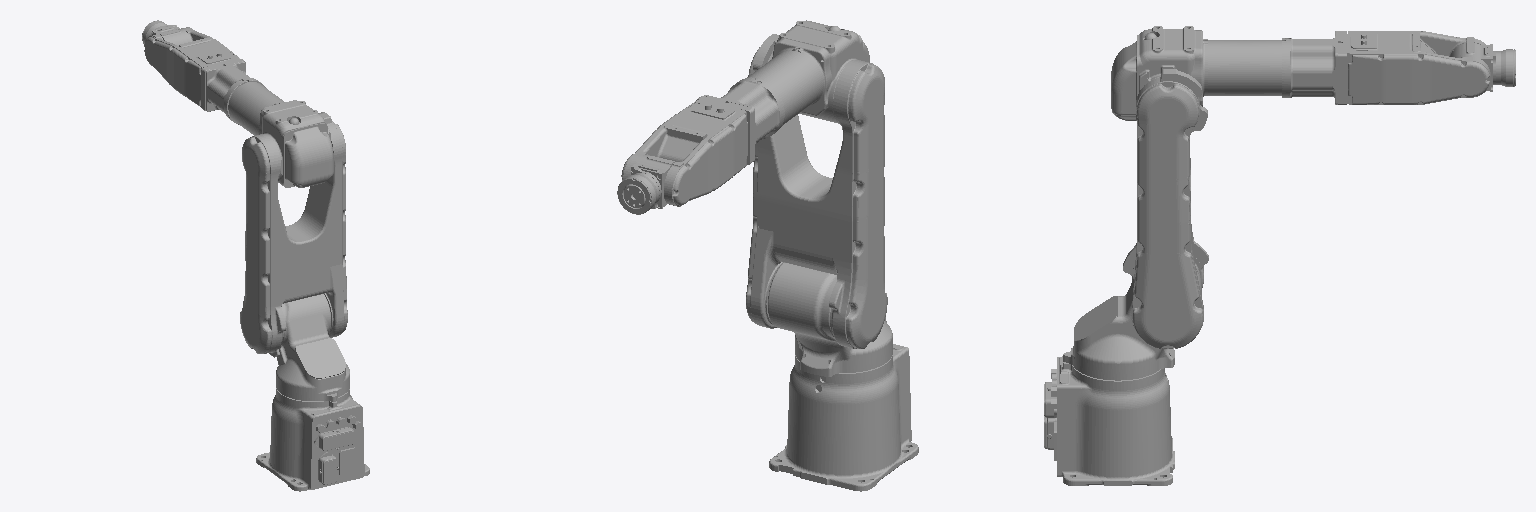
robot.urdf — mh5lsii_01:
<?xml version="1.0" ?>
<!-- =================================================================================== -->
<!-- |    This document was autogenerated by xacro from mh5lsii_01.xacro               | -->
<!-- |    EDITING THIS FILE BY HAND IS NOT RECOMMENDED                                 | -->
<!-- =================================================================================== -->
<robot name="mh5lsii_01">
  <material name="silver">
    <color rgba="0.700 0.700 0.700 1.000"/>
  </material>
  <transmission name="Revolute 1_tran">
    <type>transmission_interface/SimpleTransmission</type>
    <joint name="Revolute 1">
      <hardwareInterface>hardware_interface/EffortJointInterface</hardwareInterface>
    </joint>
    <actuator name="Revolute 1_actr">
      <hardwareInterface>hardware_interface/EffortJointInterface</hardwareInterface>
      <mechanicalReduction>1</mechanicalReduction>
    </actuator>
  </transmission>
  <transmission name="Revolute 2_tran">
    <type>transmission_interface/SimpleTransmission</type>
    <joint name="Revolute 2">
      <hardwareInterface>hardware_interface/EffortJointInterface</hardwareInterface>
    </joint>
    <actuator name="Revolute 2_actr">
      <hardwareInterface>hardware_interface/EffortJointInterface</hardwareInterface>
      <mechanicalReduction>1</mechanicalReduction>
    </actuator>
  </transmission>
  <transmission name="Revolute 3_tran">
    <type>transmission_interface/SimpleTransmission</type>
    <joint name="Revolute 3">
      <hardwareInterface>hardware_interface/EffortJointInterface</hardwareInterface>
    </joint>
    <actuator name="Revolute 3_actr">
      <hardwareInterface>hardware_interface/EffortJointInterface</hardwareInterface>
      <mechanicalReduction>1</mechanicalReduction>
    </actuator>
  </transmission>
  <transmission name="Slider 4_tran">
    <type>transmission_interface/SimpleTransmission</type>
    <joint name="Slider 4">
      <hardwareInterface>hardware_interface/EffortJointInterface</hardwareInterface>
    </joint>
    <actuator name="Slider 4_actr">
      <hardwareInterface>hardware_interface/EffortJointInterface</hardwareInterface>
      <mechanicalReduction>1</mechanicalReduction>
    </actuator>
  </transmission>
  <transmission name="Revolute 5_tran">
    <type>transmission_interface/SimpleTransmission</type>
    <joint name="Revolute 5">
      <hardwareInterface>hardware_interface/EffortJointInterface</hardwareInterface>
    </joint>
    <actuator name="Revolute 5_actr">
      <hardwareInterface>hardware_interface/EffortJointInterface</hardwareInterface>
      <mechanicalReduction>1</mechanicalReduction>
    </actuator>
  </transmission>
  <transmission name="Revolute 6_tran">
    <type>transmission_interface/SimpleTransmission</type>
    <joint name="Revolute 6">
      <hardwareInterface>hardware_interface/EffortJointInterface</hardwareInterface>
    </joint>
    <actuator name="Revolute 6_actr">
      <hardwareInterface>hardware_interface/EffortJointInterface</hardwareInterface>
      <mechanicalReduction>1</mechanicalReduction>
    </actuator>
  </transmission>
  <transmission name="Revolute 7_tran">
    <type>transmission_interface/SimpleTransmission</type>
    <joint name="Revolute 7">
      <hardwareInterface>hardware_interface/EffortJointInterface</hardwareInterface>
    </joint>
    <actuator name="Revolute 7_actr">
      <hardwareInterface>hardware_interface/EffortJointInterface</hardwareInterface>
      <mechanicalReduction>1</mechanicalReduction>
    </actuator>
  </transmission>
  <gazebo>
    <plugin filename="libgazebo_ros_control.so" name="control"/>
  </gazebo>
  <gazebo reference="base_link">
    <material>Gazebo/Silver</material>
    <mu1>0.2</mu1>
    <mu2>0.2</mu2>
    <selfCollide>true</selfCollide>
    <gravity>true</gravity>
  </gazebo>
  <gazebo reference="mh5lsii_03_v1_1">
    <material>Gazebo/Silver</material>
    <mu1>0.2</mu1>
    <mu2>0.2</mu2>
    <selfCollide>true</selfCollide>
  </gazebo>
  <gazebo reference="mh5lsii_04_v1_1">
    <material>Gazebo/Silver</material>
    <mu1>0.2</mu1>
    <mu2>0.2</mu2>
    <selfCollide>true</selfCollide>
  </gazebo>
  <gazebo reference="mh5lsii_05_v1_1">
    <material>Gazebo/Silver</material>
    <mu1>0.2</mu1>
    <mu2>0.2</mu2>
    <selfCollide>true</selfCollide>
  </gazebo>
  <gazebo reference="m5h_intermedio56_v2_1">
    <material>Gazebo/Silver</material>
    <mu1>0.2</mu1>
    <mu2>0.2</mu2>
    <selfCollide>true</selfCollide>
  </gazebo>
  <gazebo reference="mh5lsii_06_v1_1">
    <material>Gazebo/Silver</material>
    <mu1>0.2</mu1>
    <mu2>0.2</mu2>
    <selfCollide>true</selfCollide>
  </gazebo>
  <gazebo reference="mh5lsii_07_v1_1">
    <material>Gazebo/Silver</material>
    <mu1>0.2</mu1>
    <mu2>0.2</mu2>
    <selfCollide>true</selfCollide>
  </gazebo>
  <gazebo reference="mh5lsii_08_v1_1">
    <material>Gazebo/Silver</material>
    <mu1>0.2</mu1>
    <mu2>0.2</mu2>
    <selfCollide>true</selfCollide>
  </gazebo>
  <link name="base_link">
    <inertial>
      <origin rpy="0 0 0" xyz="-0.00022797791882498133 -0.01108949791374902 0.103155089795008"/>
      <mass value="6.383315739029554"/>
      <inertia ixx="0.042429" ixy="-0.000165" ixz="-3.9e-05" iyy="0.037297" iyz="-0.000458" izz="0.031253"/>
    </inertial>
    <visual>
      <origin rpy="0 0 0" xyz="0 0 0"/>
      <geometry>
        <mesh filename="package://mh5lsii_01_description/meshes/base_link.stl" scale="0.001 0.001 0.001"/>
      </geometry>
      <material name="silver"/>
    </visual>
    <collision>
      <origin rpy="0 0 0" xyz="0 0 0"/>
      <geometry>
        <mesh filename="package://mh5lsii_01_description/meshes/base_link.stl" scale="0.001 0.001 0.001"/>
      </geometry>
    </collision>
  </link>
  <link name="mh5lsii_03_v1_1">
    <inertial>
      <origin rpy="0 0 0" xyz="0.0024015056070713246 0.04942368090541862 0.06287796572242785"/>
      <mass value="2.5905227528815282"/>
      <inertia ixx="0.013374" ixy="-0.000272" ixz="-0.000277" iyy="0.009093" iyz="-0.003963" izz="0.010742"/>
    </inertial>
    <visual>
      <origin rpy="0 0 0" xyz="-0.0 -0.0 -0.229"/>
      <geometry>
        <mesh filename="package://mh5lsii_01_description/meshes/mh5lsii_03_v1_1.stl" scale="0.001 0.001 0.001"/>
      </geometry>
      <material name="silver"/>
    </visual>
    <collision>
      <origin rpy="0 0 0" xyz="-0.0 -0.0 -0.229"/>
      <geometry>
        <mesh filename="package://mh5lsii_01_description/meshes/mh5lsii_03_v1_1.stl" scale="0.001 0.001 0.001"/>
      </geometry>
    </collision>
  </link>
  <link name="mh5lsii_04_v1_1">
    <inertial>
      <origin rpy="0 0 0" xyz="0.056817801695118283 -0.005331704883190486 0.17365649108048725"/>
      <mass value="6.380489303500828"/>
      <inertia ixx="0.110031" ixy="-0.000116" ixz="-0.000953" iyy="0.141345" iyz="-4.4e-05" izz="0.041634"/>
    </inertial>
    <visual>
      <origin rpy="0 0 0" xyz="0.0555 -0.088 -0.33"/>
      <geometry>
        <mesh filename="package://mh5lsii_01_description/meshes/mh5lsii_04_v1_1.stl" scale="0.001 0.001 0.001"/>
      </geometry>
      <material name="silver"/>
    </visual>
    <collision>
      <origin rpy="0 0 0" xyz="0.0555 -0.088 -0.33"/>
      <geometry>
        <mesh filename="package://mh5lsii_01_description/meshes/mh5lsii_04_v1_1.stl" scale="0.001 0.001 0.001"/>
      </geometry>
    </collision>
  </link>
  <link name="mh5lsii_05_v1_1">
    <inertial>
      <origin rpy="0 0 0" xyz="0.06416047148633115 -0.01041786918444669 0.019063289594718258"/>
      <mass value="2.5300674455307113"/>
      <inertia ixx="0.008602" ixy="-3.1e-05" ixz="3.2e-05" iyy="0.006844" iyz="-0.000743" izz="0.007625"/>
    </inertial>
    <visual>
      <origin rpy="0 0 0" xyz="0.0625 -0.088 -0.73"/>
      <geometry>
        <mesh filename="package://mh5lsii_01_description/meshes/mh5lsii_05_v1_1.stl" scale="0.001 0.001 0.001"/>
      </geometry>
      <material name="silver"/>
    </visual>
    <collision>
      <origin rpy="0 0 0" xyz="0.0625 -0.088 -0.73"/>
      <geometry>
        <mesh filename="package://mh5lsii_01_description/meshes/mh5lsii_05_v1_1.stl" scale="0.001 0.001 0.001"/>
      </geometry>
    </collision>
  </link>
  <link name="m5h_intermedio56_v2_1">
    <inertial>
      <origin rpy="0 0 0" xyz="1.216474837528736e-16 0.06499999999999984 2.220446049250313e-16"/>
      <mass value="8.780751466783475"/>
      <inertia ixx="0.017854" ixy="0.0" ixz="-0.0" iyy="0.010976" iyz="0.0" izz="0.017854"/>
    </inertial>
    <visual>
      <origin rpy="0 0 0" xyz="-0.0005 -0.1585 -0.77"/>
      <geometry>
        <mesh filename="package://mh5lsii_01_description/meshes/m5h_intermedio56_v2_1.stl" scale="0.001 0.001 0.001"/>
      </geometry>
      <material name="silver"/>
    </visual>
    <collision>
      <origin rpy="0 0 0" xyz="-0.0005 -0.1585 -0.77"/>
      <geometry>
        <mesh filename="package://mh5lsii_01_description/meshes/m5h_intermedio56_v2_1.stl" scale="0.001 0.001 0.001"/>
      </geometry>
    </collision>
  </link>
  <link name="mh5lsii_06_v1_1">
    <inertial>
      <origin rpy="0 0 0" xyz="4.669573118282005e-06 0.15998677875204814 0.00017660549351938837"/>
      <mass value="2.862818010080529"/>
      <inertia ixx="0.024637" ixy="1.1e-05" ixz="1e-06" iyy="0.004917" iyz="1e-06" izz="0.025498"/>
    </inertial>
    <visual>
      <origin rpy="0 0 0" xyz="-0.0005 -0.2885 -0.77"/>
      <geometry>
        <mesh filename="package://mh5lsii_01_description/meshes/mh5lsii_06_v1_1.stl" scale="0.001 0.001 0.001"/>
      </geometry>
      <material name="silver"/>
    </visual>
    <collision>
      <origin rpy="0 0 0" xyz="-0.0005 -0.2885 -0.77"/>
      <geometry>
        <mesh filename="package://mh5lsii_01_description/meshes/mh5lsii_06_v1_1.stl" scale="0.001 0.001 0.001"/>
      </geometry>
    </collision>
  </link>
  <link name="mh5lsii_07_v1_1">
    <inertial>
      <origin rpy="0 0 0" xyz="-0.030035619511566837 0.01558660205089557 8.465395233003825e-05"/>
      <mass value="0.35802959885359315"/>
      <inertia ixx="0.000426" ixy="-0.0" ixz="-0.0" iyy="0.000236" iyz="-1e-06" izz="0.000407"/>
    </inertial>
    <visual>
      <origin rpy="0 0 0" xyz="-0.0315 -0.622 -0.77"/>
      <geometry>
        <mesh filename="package://mh5lsii_01_description/meshes/mh5lsii_07_v1_1.stl" scale="0.001 0.001 0.001"/>
      </geometry>
      <material name="silver"/>
    </visual>
    <collision>
      <origin rpy="0 0 0" xyz="-0.0315 -0.622 -0.77"/>
      <geometry>
        <mesh filename="package://mh5lsii_01_description/meshes/mh5lsii_07_v1_1.stl" scale="0.001 0.001 0.001"/>
      </geometry>
    </collision>
  </link>
  <link name="mh5lsii_08_v1_1">
    <inertial>
      <origin rpy="0 0 0" xyz="5.876375774871434e-17 0.014001406375297232 5.020752188966693e-05"/>
      <mass value="0.04311612297123867"/>
      <inertia ixx="8e-06" ixy="0.0" ixz="0.0" iyy="1.1e-05" iyz="-0.0" izz="8e-06"/>
    </inertial>
    <visual>
      <origin rpy="0 0 0" xyz="-0.0015 -0.6725 -0.77"/>
      <geometry>
        <mesh filename="package://mh5lsii_01_description/meshes/mh5lsii_08_v1_1.stl" scale="0.001 0.001 0.001"/>
      </geometry>
      <material name="silver"/>
    </visual>
    <collision>
      <origin rpy="0 0 0" xyz="-0.0015 -0.6725 -0.77"/>
      <geometry>
        <mesh filename="package://mh5lsii_01_description/meshes/mh5lsii_08_v1_1.stl" scale="0.001 0.001 0.001"/>
      </geometry>
    </collision>
  </link>
  <joint name="Revolute 1" type="revolute">
    <origin rpy="0 0 0" xyz="0.0 0.0 0.229"/>
    <parent link="base_link"/>
    <child link="mh5lsii_03_v1_1"/>
    <axis xyz="0.0 0.0 1.0"/>
    <limit effort="100" lower="-2.96706" upper="2.96706" velocity="100"/>
  </joint>
  <joint name="Revolute 2" type="revolute">
    <origin rpy="0 0 0" xyz="-0.0555 0.088 0.101"/>
    <parent link="mh5lsii_03_v1_1"/>
    <child link="mh5lsii_04_v1_1"/>
    <axis xyz="-1.0 0.0 0.0"/>
    <limit effort="100" lower="-1.134464" upper="2.617994" velocity="100"/>
  </joint>
  <joint name="Revolute 3" type="revolute">
    <origin rpy="0 0 0" xyz="-0.007 0.0 0.4"/>
    <parent link="mh5lsii_04_v1_1"/>
    <child link="mh5lsii_05_v1_1"/>
    <axis xyz="1.0 0.0 0.0"/>
    <limit effort="100" lower="-1.134464" upper="2.70526" velocity="100"/>
  </joint>
  <joint name="Slider 4" type="prismatic">
    <origin rpy="0 0 0" xyz="0.063 0.0705 0.04"/>
    <parent link="mh5lsii_05_v1_1"/>
    <child link="m5h_intermedio56_v2_1"/>
    <axis xyz="0.0 1.0 0.0"/>
    <limit effort="100" lower="0.0" upper="0.05" velocity="100"/>
  </joint>
  <joint name="Revolute 5" type="revolute">
    <origin rpy="0 0 0" xyz="0.0 0.13 0.0"/>
    <parent link="m5h_intermedio56_v2_1"/>
    <child link="mh5lsii_06_v1_1"/>
    <axis xyz="0.0 1.0 0.0"/>
    <limit effort="100" lower="-2.96706" upper="3.316126" velocity="100"/>
  </joint>
  <joint name="Revolute 6" type="revolute">
    <origin rpy="0 0 0" xyz="0.031 0.3335 0.0"/>
    <parent link="mh5lsii_06_v1_1"/>
    <child link="mh5lsii_07_v1_1"/>
    <axis xyz="-1.0 0.0 0.0"/>
    <limit effort="100" lower="-2.356194" upper="2.356194" velocity="100"/>
  </joint>
  <joint name="Revolute 7" type="continuous">
    <origin rpy="0 0 0" xyz="-0.03 0.0505 0.0"/>
    <parent link="mh5lsii_07_v1_1"/>
    <child link="mh5lsii_08_v1_1"/>
    <axis xyz="0.0 1.0 0.0"/>
  </joint>
</robot>

--- Render facts (derived) ---
The picture shows the robot from 3 angles, left to right: view 1: azimuth 30°, elevation 25°; view 2: azimuth 150°, elevation 25°; view 3: azimuth 270°, elevation 25°; orthographic projection.
Robot: mh5lsii_01 — 8 links, 7 joints (5 revolute, 1 continuous, 1 prismatic); root link base_link; default pose: every joint at zero.
Visible links, largest first — view 1: mh5lsii_04_v1_1, base_link, mh5lsii_03_v1_1, mh5lsii_06_v1_1, mh5lsii_05_v1_1, m5h_intermedio56_v2_1, mh5lsii_07_v1_1; view 2: mh5lsii_04_v1_1, base_link, mh5lsii_06_v1_1, mh5lsii_03_v1_1, mh5lsii_05_v1_1, m5h_intermedio56_v2_1, mh5lsii_07_v1_1; view 3: mh5lsii_04_v1_1, base_link, mh5lsii_06_v1_1, mh5lsii_03_v1_1, mh5lsii_05_v1_1, m5h_intermedio56_v2_1, mh5lsii_07_v1_1.
Boxes of the visible links, x1=… form: mh5lsii_04_v1_1: x1=240, y1=112, x2=347, y2=357; base_link: x1=256, y1=388, x2=369, y2=491; mh5lsii_03_v1_1: x1=276, y1=294, x2=349, y2=401; mh5lsii_06_v1_1: x1=144, y1=27, x2=265, y2=124; mh5lsii_05_v1_1: x1=258, y1=100, x2=333, y2=187; m5h_intermedio56_v2_1: x1=228, y1=82, x2=284, y2=135; mh5lsii_07_v1_1: x1=142, y1=20, x2=190, y2=45; mh5lsii_04_v1_1: x1=746, y1=34, x2=887, y2=348; base_link: x1=769, y1=344, x2=918, y2=491; mh5lsii_06_v1_1: x1=621, y1=77, x2=784, y2=206; mh5lsii_03_v1_1: x1=768, y1=263, x2=892, y2=376; mh5lsii_05_v1_1: x1=772, y1=20, x2=869, y2=123; m5h_intermedio56_v2_1: x1=747, y1=51, x2=821, y2=125; mh5lsii_07_v1_1: x1=617, y1=155, x2=674, y2=214; mh5lsii_04_v1_1: x1=1123, y1=69, x2=1208, y2=348; base_link: x1=1044, y1=356, x2=1174, y2=485; mh5lsii_06_v1_1: x1=1282, y1=31, x2=1490, y2=104; mh5lsii_03_v1_1: x1=1063, y1=270, x2=1201, y2=380; mh5lsii_05_v1_1: x1=1111, y1=26, x2=1207, y2=120; m5h_intermedio56_v2_1: x1=1208, y1=40, x2=1281, y2=95; mh5lsii_07_v1_1: x1=1451, y1=41, x2=1515, y2=91.
Size in the robot's own frame: 0.22 by 0.8315 by 0.8296 metres.
Meshes: 8 distinct files referenced, 8 mesh visuals loaded (8 binary STL).
